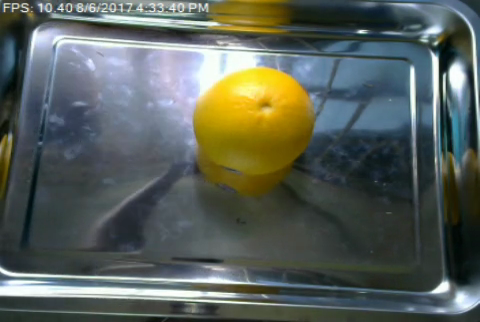Orange: (191, 66, 316, 174)
